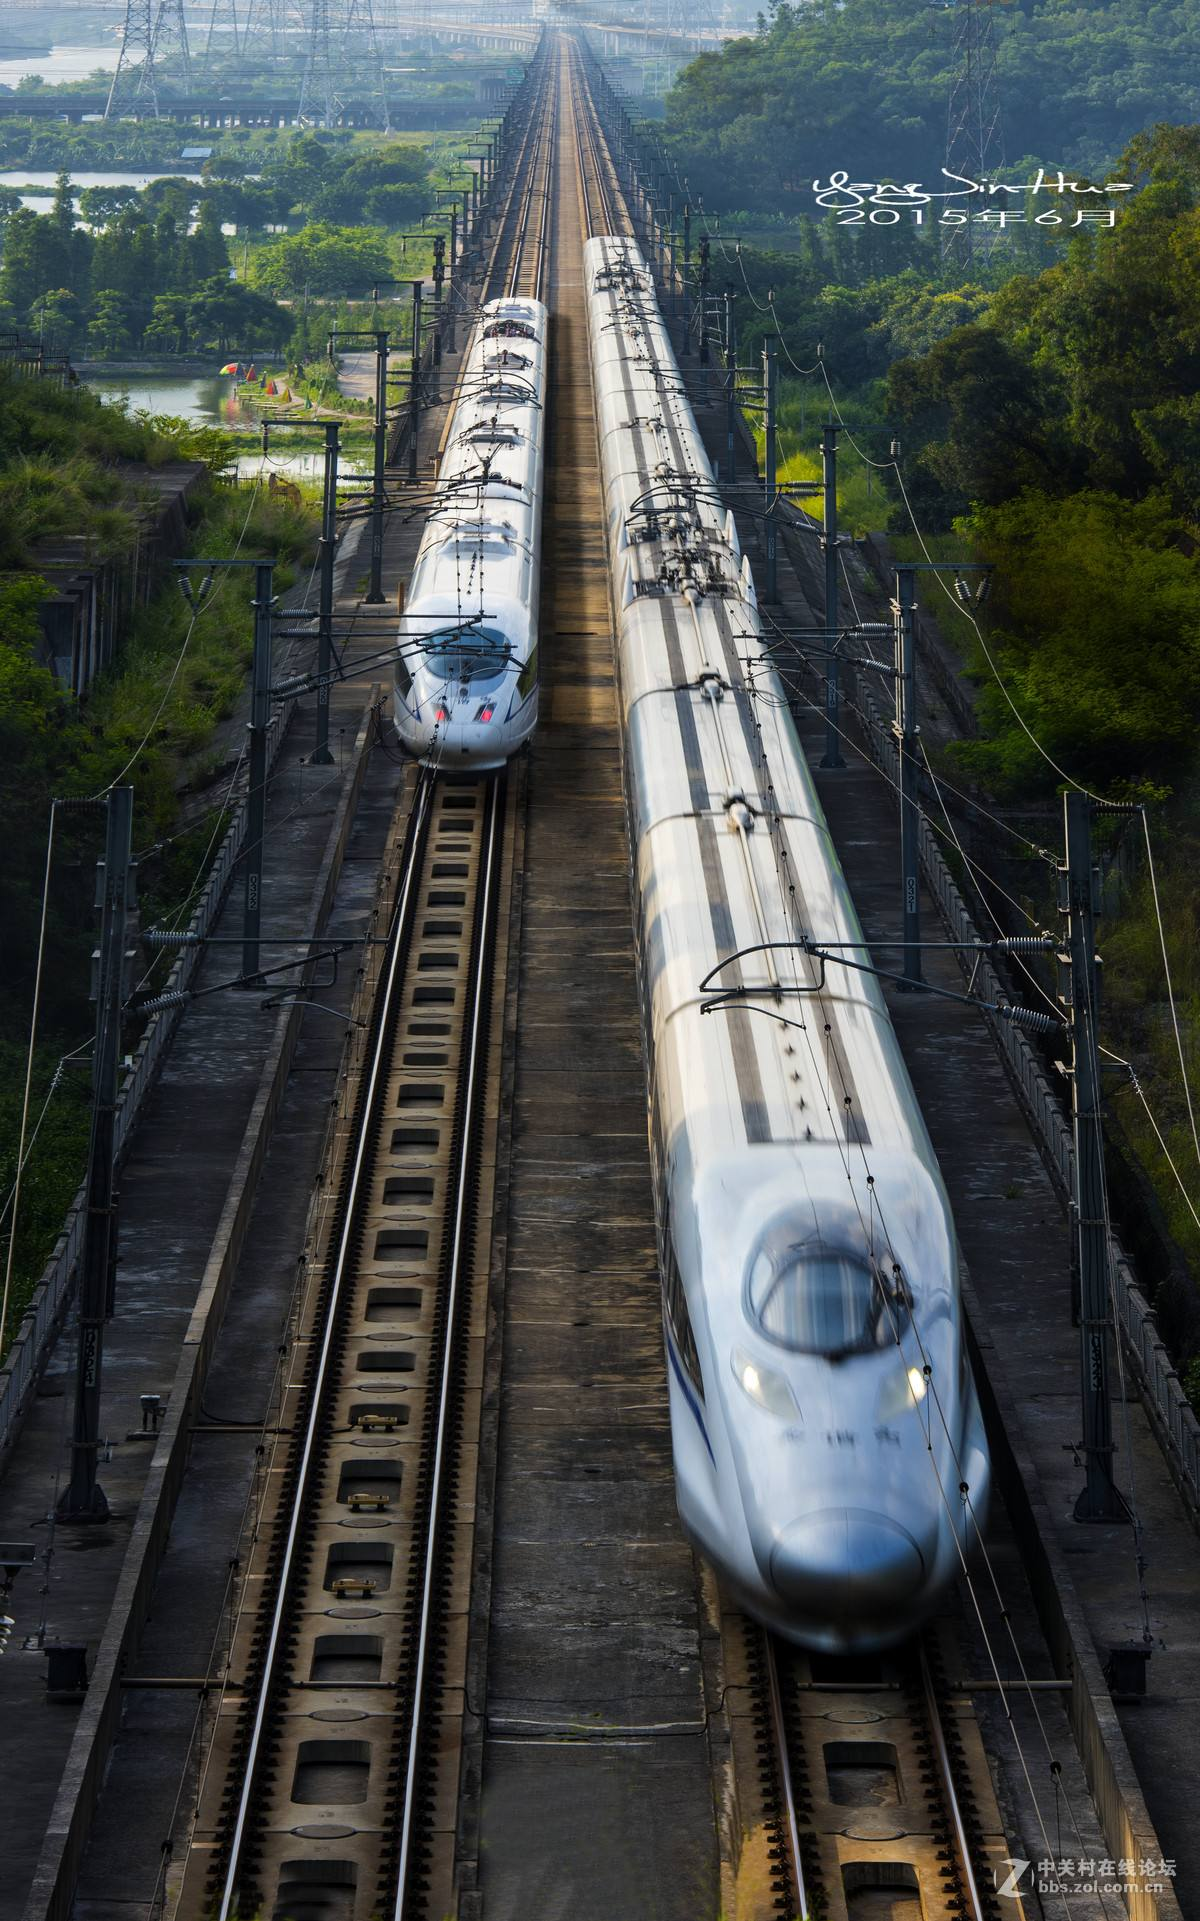hsrw: (583, 234, 1004, 1671), (387, 275, 561, 784)
